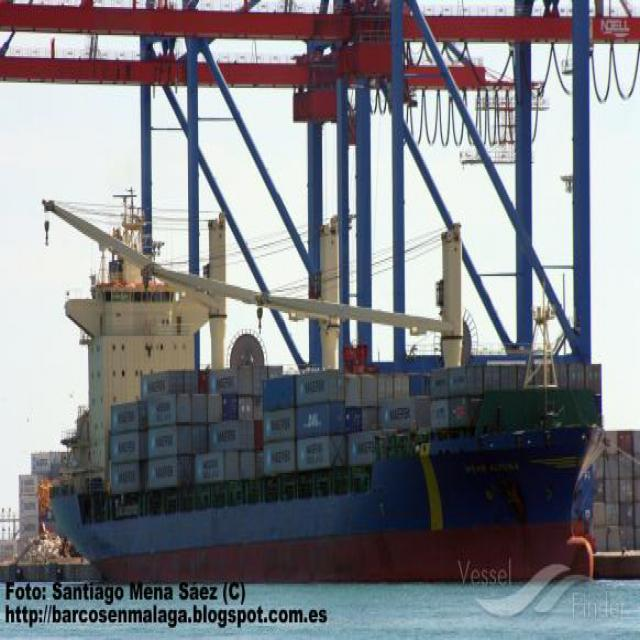Container Ship: (60, 205, 600, 576)
